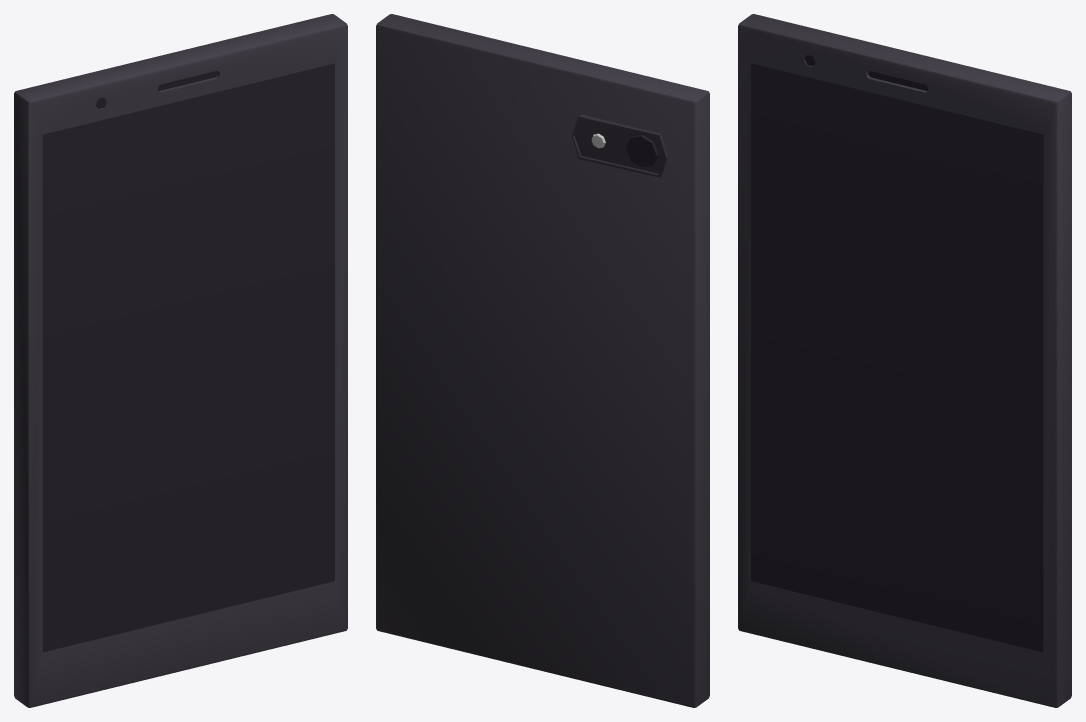
The model's file is Smartphone.fbx.
The picture shows the model from 3 angles, left to right: view 1: azimuth 30°, elevation 25°; view 2: azimuth 150°, elevation 25°; view 3: azimuth 330°, elevation 25°; orthographic projection.
Parts seen in each view (by area): view 1: phone_v4; view 2: phone_v4; view 3: phone_v4.
Part boxes in pixels (x1,y1,x2,y2): phone_v4: [14, 14, 347, 707]; phone_v4: [376, 14, 709, 707]; phone_v4: [738, 14, 1071, 707].
Size of the model in its own units: 110 by 200 by 11.22.
